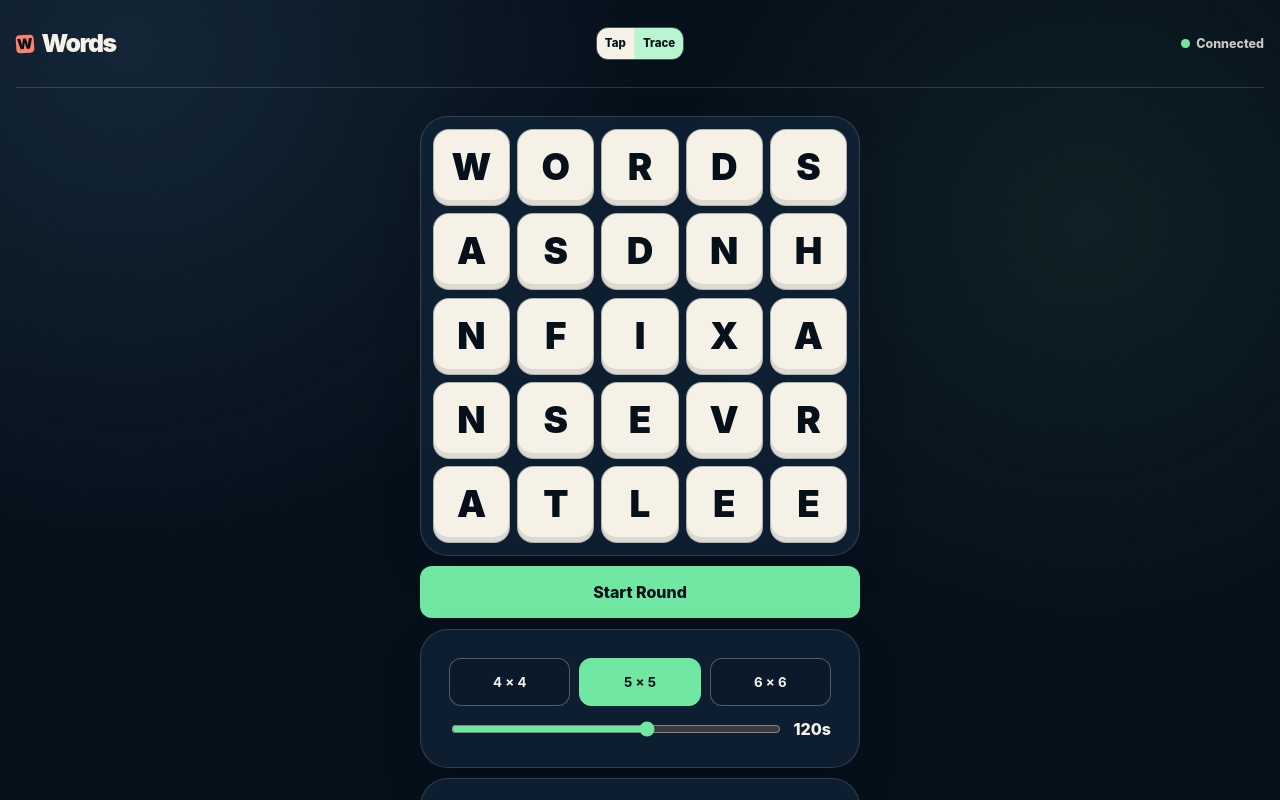
Test case: Stage 4B display and player room routes › retains authoritative values after a failed settings acknowledgement
Click the button "5 × 5" at (640, 682), box top-left (579, 658), bottom-right (701, 706)
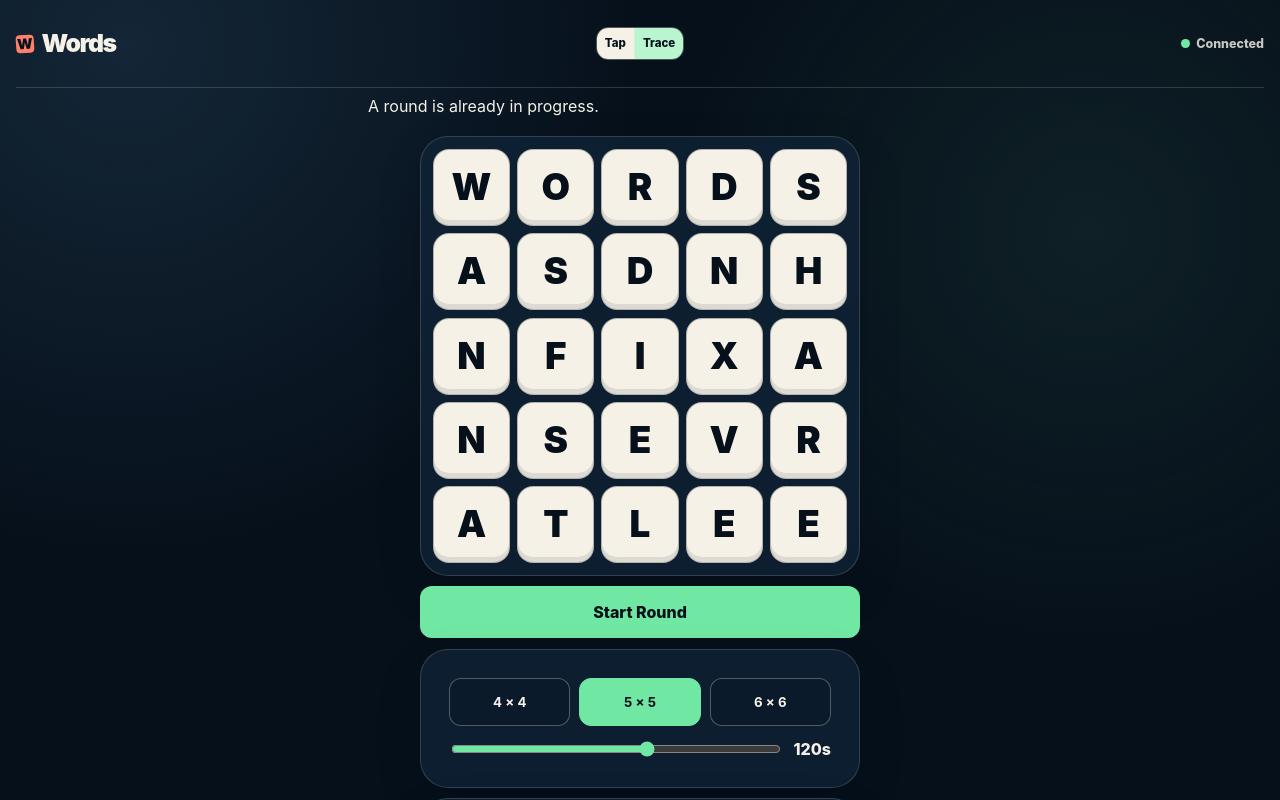
Expected: the message reads "A round is already in progress.", top-left (368, 96), bottom-right (599, 116)
